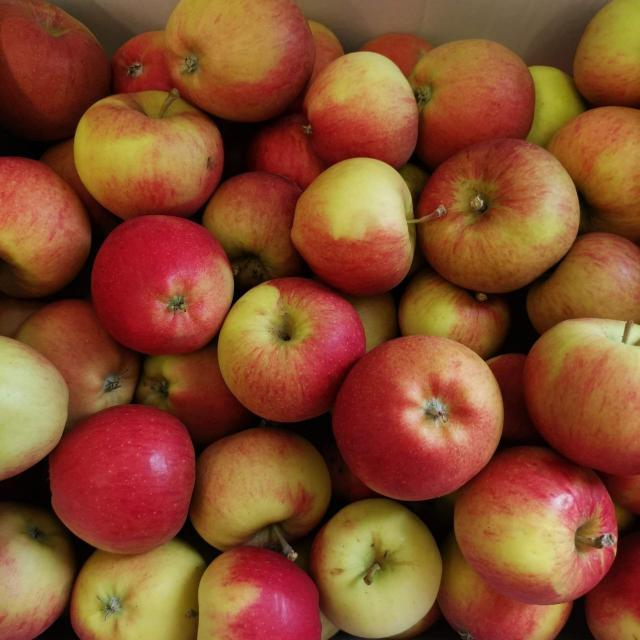Fresh Apple: (328, 338, 502, 512), (453, 455, 627, 600), (420, 148, 583, 280), (45, 407, 193, 545), (508, 321, 640, 461), (90, 213, 227, 345), (220, 282, 350, 408), (158, 0, 306, 108), (72, 90, 203, 203), (294, 165, 414, 287), (300, 58, 423, 167), (407, 44, 528, 148), (0, 163, 76, 305), (196, 558, 319, 640)
